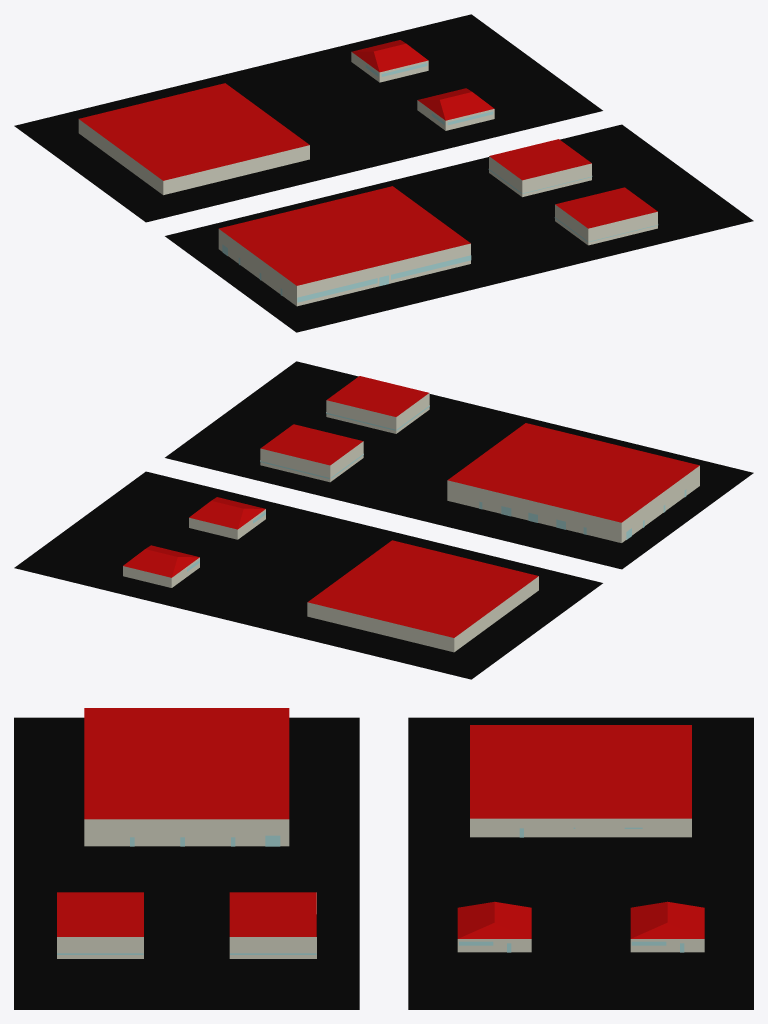
3 views of the same model, one above another, from view 1: azimuth 30°, elevation 25°; view 2: azimuth 150°, elevation 25°; view 3: azimuth 270°, elevation 25° (orthographic). The views are drawn at different scales.
Visible parts, largest first — view 1: Ground, Roofs, Walls, Windows; view 2: Ground, Roofs, Walls, Windows; view 3: Ground, Roofs, Walls, Windows.
Boxes of the visible parts, box(x1,y1,x2,y2) form: Ground: box(14, 14, 753, 332); Roofs: box(79, 40, 657, 285); Walls: box(78, 52, 657, 306); Windows: box(222, 63, 658, 302); Ground: box(14, 361, 753, 679); Roofs: box(123, 376, 699, 637); Walls: box(123, 393, 699, 652); Windows: box(187, 405, 686, 571); Ground: box(14, 717, 753, 1009); Roofs: box(57, 708, 704, 938); Walls: box(57, 818, 704, 958); Windows: box(57, 827, 684, 954).
Bounding box in the file's own units: 142 × 6.1 × 152.
